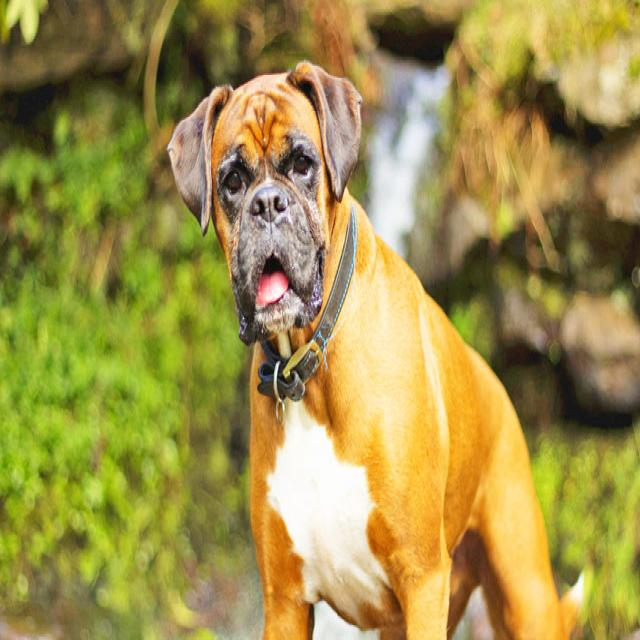fungal infection: (278, 131, 324, 201), (218, 146, 256, 211), (312, 266, 326, 319), (172, 131, 191, 163), (239, 303, 253, 342), (192, 113, 205, 155)
